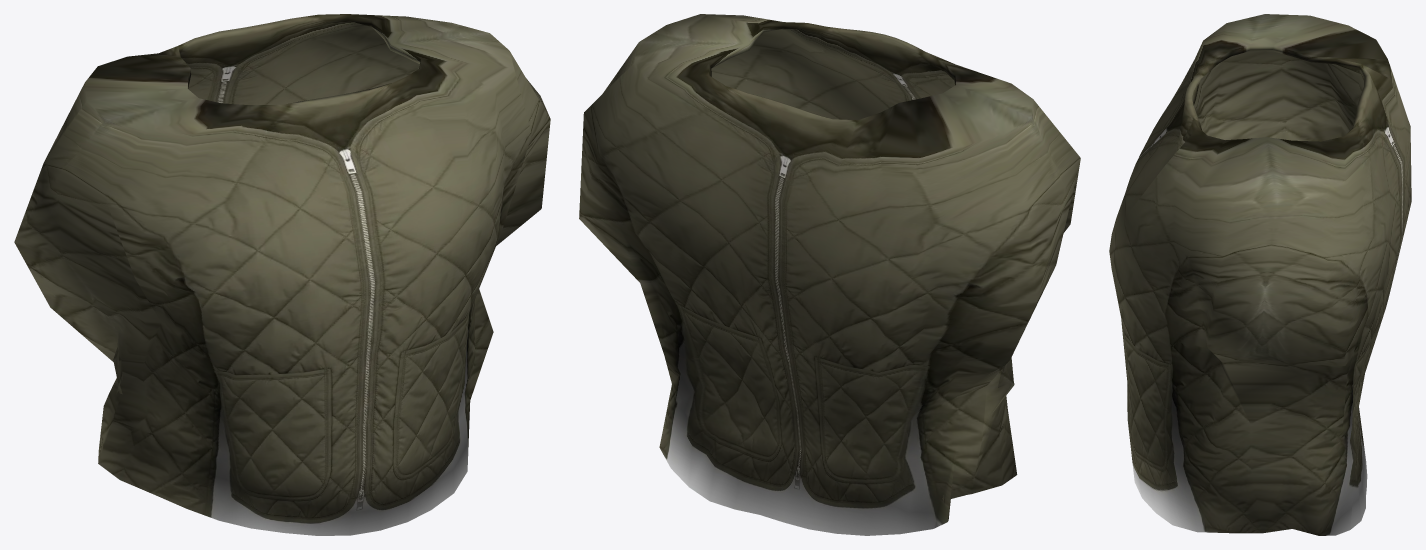
The picture shows the model from 3 angles, left to right: view 1: azimuth 30°, elevation 25°; view 2: azimuth 150°, elevation 25°; view 3: azimuth 270°, elevation 25°; orthographic projection. The views are drawn at different scales.
Visible parts, largest first — view 1: garment; view 2: garment; view 3: garment.
Boxes of the visible parts, <box> form: garment: <box>14,14,550,535</box>; garment: <box>579,14,1080,535</box>; garment: <box>1109,14,1411,535</box>.
Bounding box in the file's own units: 0.5483 × 0.4613 × 0.3221.
1 material, 1 textured.
